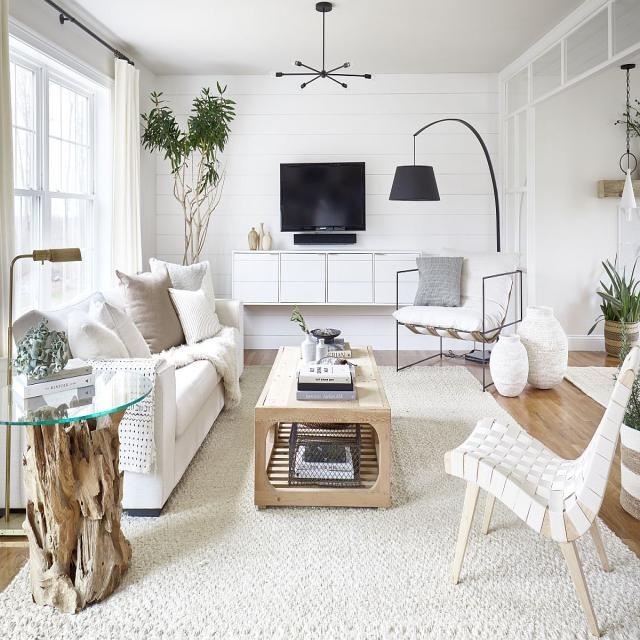Chair: (449, 322, 636, 617), (388, 255, 523, 385)
Lamp: (401, 110, 528, 250), (246, 23, 388, 103)
Sofa: (2, 246, 241, 517)
Table: (0, 371, 163, 614), (243, 316, 400, 533)
